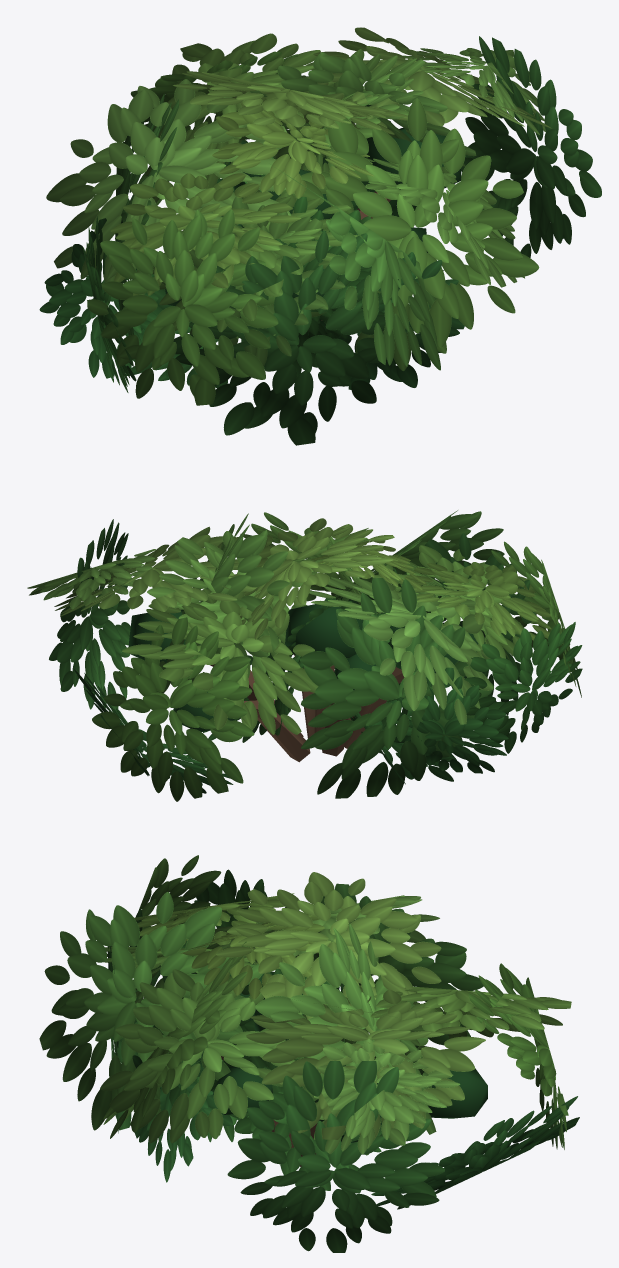
Rendered from bush_low_lod1.gltf.
The picture shows the model from 3 angles, top to bottom: view 1: azimuth 30°, elevation 25°; view 2: azimuth 150°, elevation 25°; view 3: azimuth 270°, elevation 25°; orthographic projection. The views are drawn at different scales.
Parts seen in each view (by area): view 1: Leaves_summer; view 2: Leaves_summer, Stems; view 3: Leaves_summer.
Part boxes in pixels (x1,y1,x2,y2): Leaves_summer: [39, 27, 601, 445]; Leaves_summer: [27, 510, 582, 801]; Stems: [210, 654, 404, 762]; Leaves_summer: [39, 855, 579, 1252].
Bounding box in the file's own units: 2.01 × 1.03 × 1.91.
Materials: 2 (1 with a texture image).
